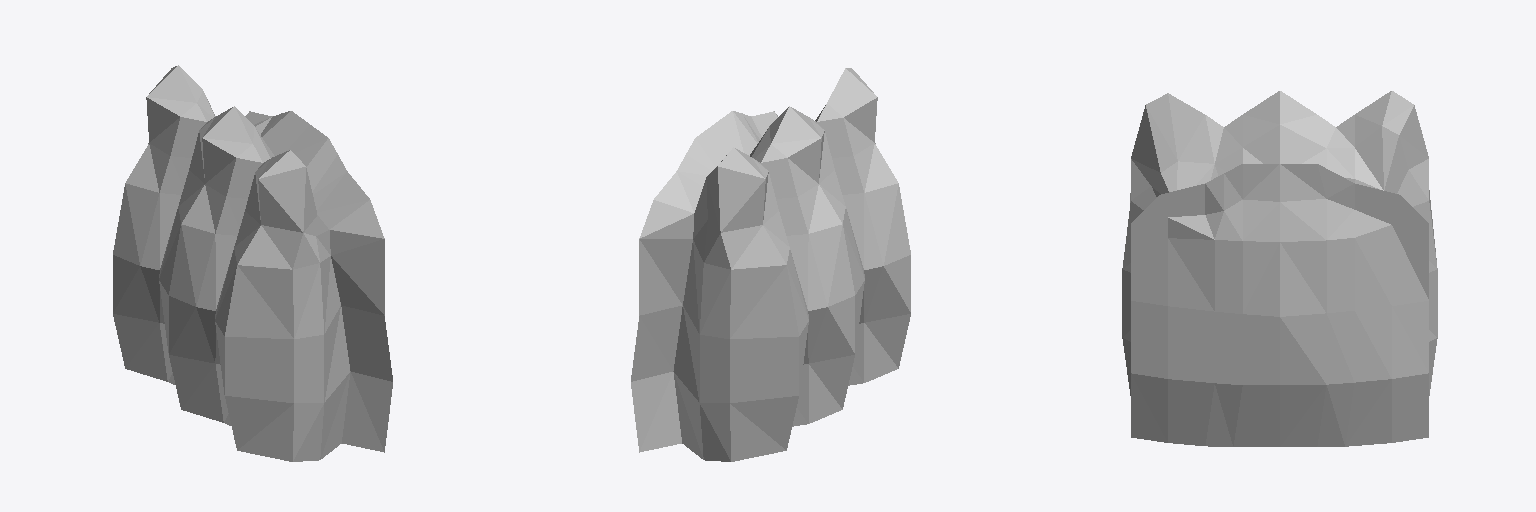
File: RocketLaucnherAmmo_LOD0.obj
3 views of the same model, side by side, from view 1: azimuth 30°, elevation 25°; view 2: azimuth 150°, elevation 25°; view 3: azimuth 270°, elevation 25° (orthographic).
Parts seen in each view (by area): view 1: Cube_Cube.001; view 2: Cube_Cube.001; view 3: Cube_Cube.001.
Part boxes in pixels (bbox=[...]): Cube_Cube.001: bbox=[113, 65, 392, 461]; Cube_Cube.001: bbox=[631, 68, 910, 461]; Cube_Cube.001: bbox=[1122, 91, 1437, 446].
Bounding box in the file's own units: 0.5343 × 0.9072 × 0.8354.